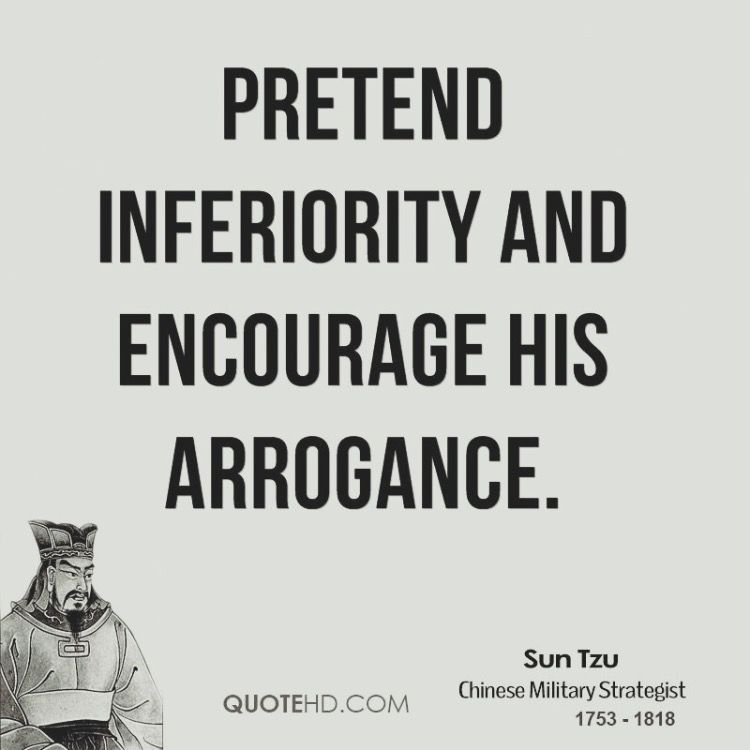latin: (96, 56, 630, 518), (456, 645, 686, 732), (220, 689, 411, 719)
